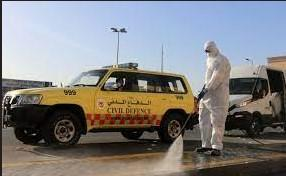firetruck_off: (1, 62, 197, 150)
